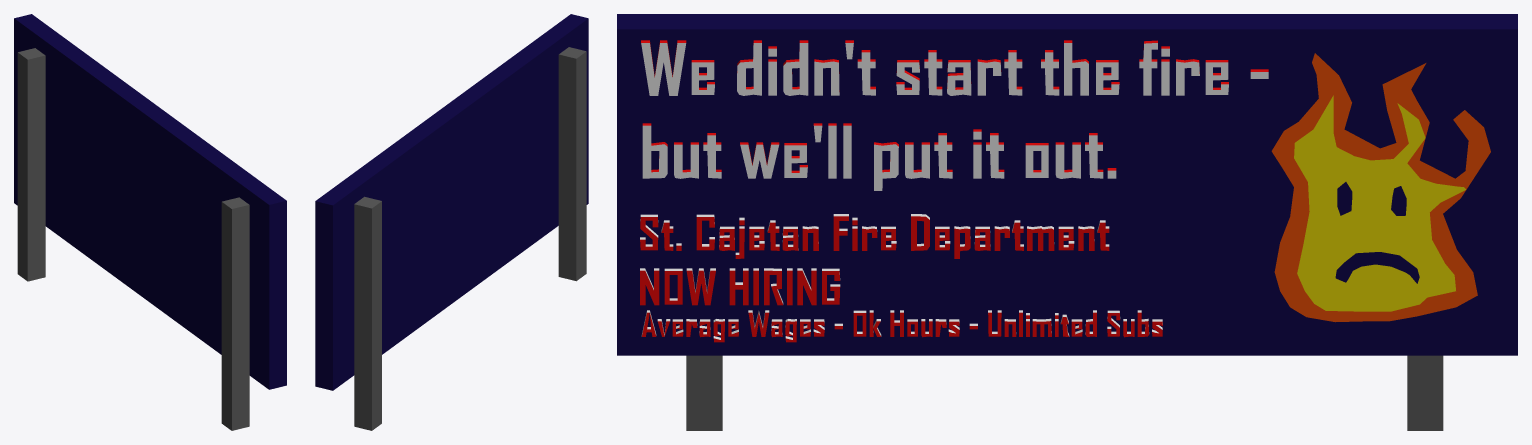
Rendered from Fire Billboard.glb.
3 renders of one model, left to right at view 1: azimuth 30°, elevation 25°; view 2: azimuth 150°, elevation 25°; view 3: azimuth 270°, elevation 25°, orthographic. The views are drawn at different scales.
Visible parts, largest first — view 1: Billboard, Supports; view 2: Billboard, Supports; view 3: Billboard, Text.001, Supports.
Boxes of the visible parts, x1,y1,x2,y2 form: Billboard: (14,14,286,389); Supports: (17,48,249,430); Billboard: (315,14,588,390); Supports: (354,47,586,430); Billboard: (617,14,1517,355); Text.001: (640,40,1268,342); Supports: (686,355,1443,430).
Size of the model in its own units: 0.6569 by 3.89 by 7.62.
